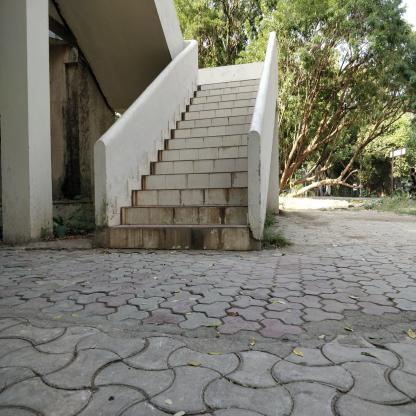stairs: (198, 87, 248, 261)
